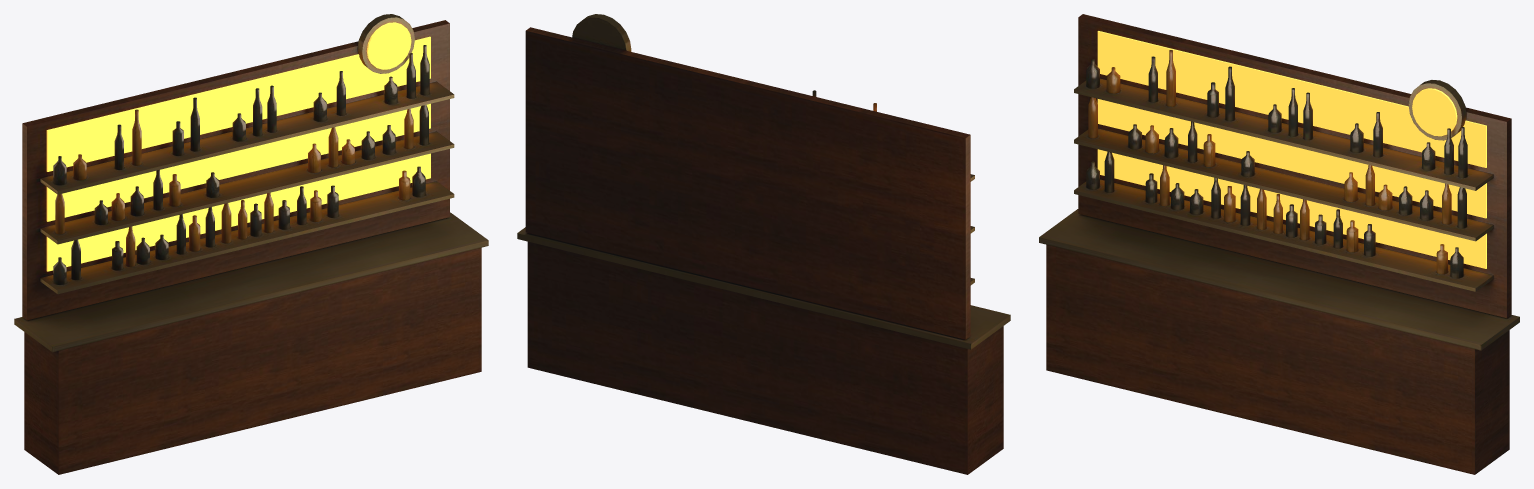
File: cantina_back_bar.glb
The picture shows the model from 3 angles, left to right: view 1: azimuth 30°, elevation 25°; view 2: azimuth 150°, elevation 25°; view 3: azimuth 330°, elevation 25°; orthographic projection. The views are drawn at different scales.
Visible parts, largest first — view 1: cantina_back_bar, cantina_back_bar_cantina_glow_backlight; view 2: cantina_back_bar; view 3: cantina_back_bar, cantina_back_bar_cantina_glow_backlight.
Boxes of the visible parts, x1,y1,x2,y2 form: cantina_back_bar: [14, 14, 488, 474]; cantina_back_bar_cantina_glow_backlight: [46, 22, 430, 271]; cantina_back_bar: [517, 14, 1010, 474]; cantina_back_bar: [1039, 14, 1519, 474]; cantina_back_bar_cantina_glow_backlight: [1097, 31, 1486, 268].
Bounding box in the file's own units: 3.3 × 2.53 × 0.4999.
2 materials, 1 textured.
